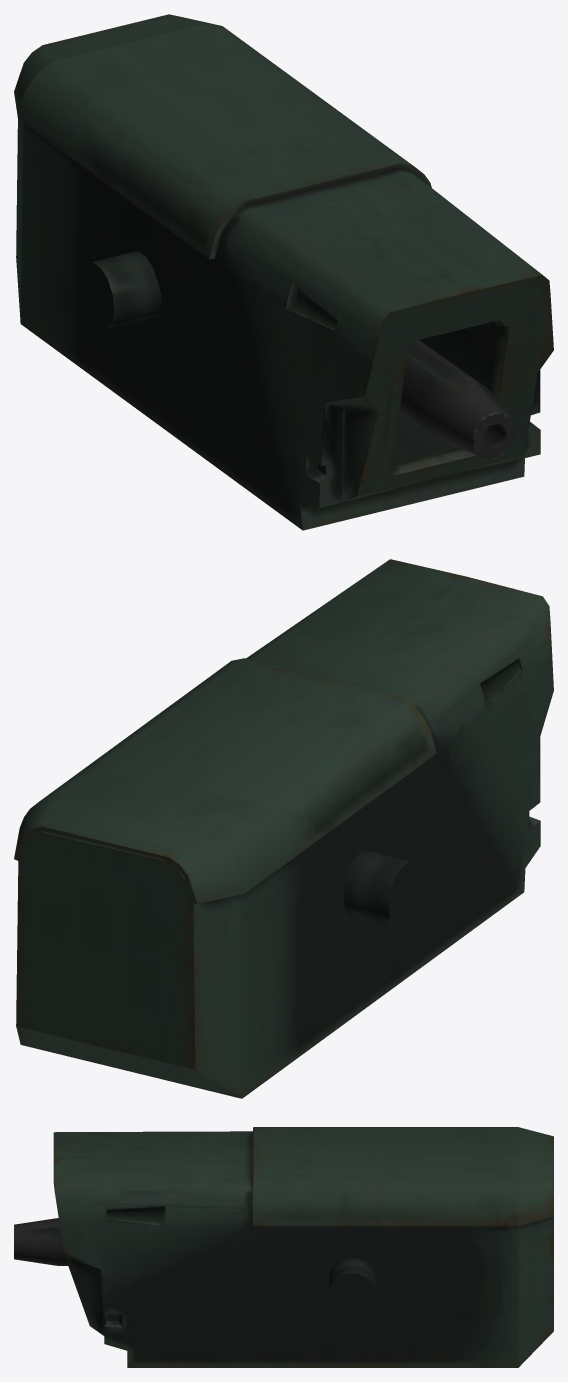
File: flak_gun.glb
3 views of the same model, one above another, from view 1: azimuth 30°, elevation 25°; view 2: azimuth 150°, elevation 25°; view 3: azimuth 270°, elevation 25° (orthographic). The views are drawn at different scales.
Visible parts, largest first — view 1: Cannon_Upper_Body_0; view 2: Cannon_Upper_Body_0; view 3: Cannon_Upper_Body_0.
Boxes of the visible parts, x1=… form: Cannon_Upper_Body_0: x1=14, y1=14, x2=553, y2=530; Cannon_Upper_Body_0: x1=14, y1=559, x2=553, y2=1098; Cannon_Upper_Body_0: x1=14, y1=1127, x2=553, y2=1367.
Size of the model in its own units: 0.7197 by 0.5685 by 1.58.
1 material, 1 textured.
